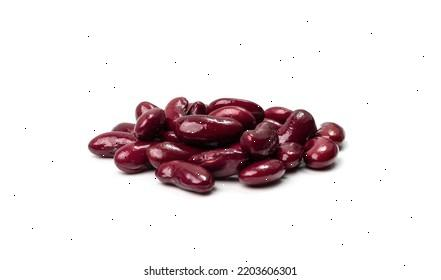rajma: (96, 94, 359, 199)
